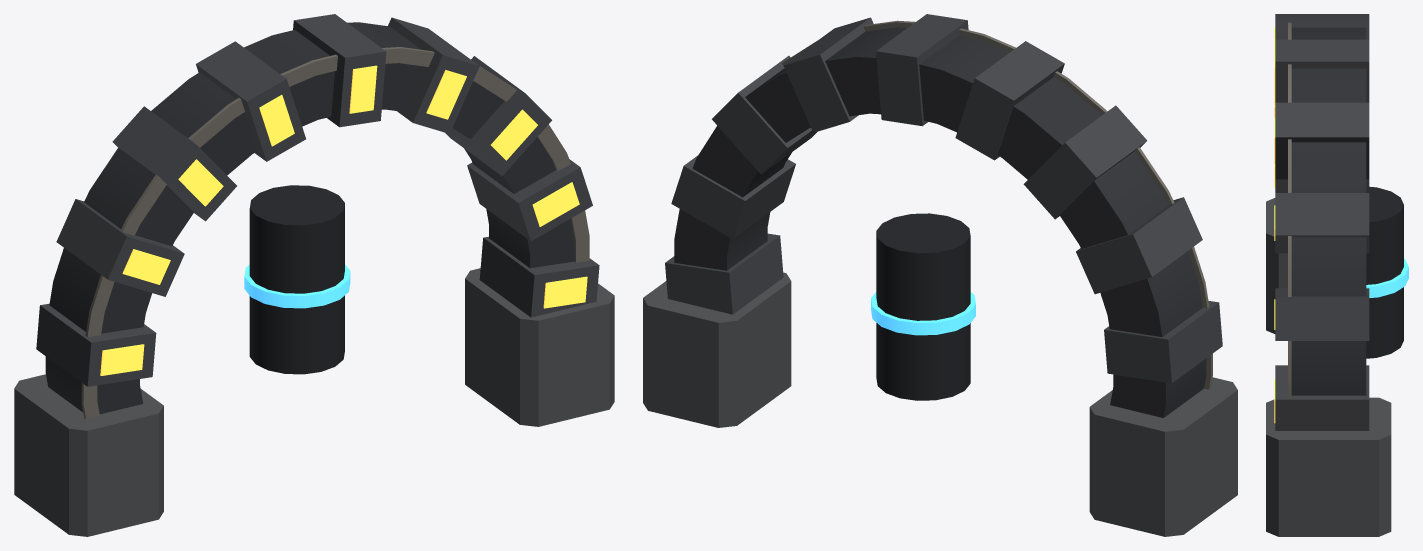
Rendered from nvg_prp_reactor_ring_a.glb.
The picture shows the model from 3 angles, left to right: view 1: azimuth 30°, elevation 25°; view 2: azimuth 150°, elevation 25°; view 3: azimuth 270°, elevation 25°; orthographic projection. The views are drawn at different scales.
Parts seen in each view (by area): view 1: mesh_intact; view 2: mesh_intact; view 3: mesh_intact.
Part boxes in pixels (<box>): mesh_intact: <box>14,14,614,536</box>; mesh_intact: <box>643,14,1237,536</box>; mesh_intact: <box>1266,14,1408,536</box>.
Bounding box in the file's own units: 9.2 × 6.62 × 2.28.
